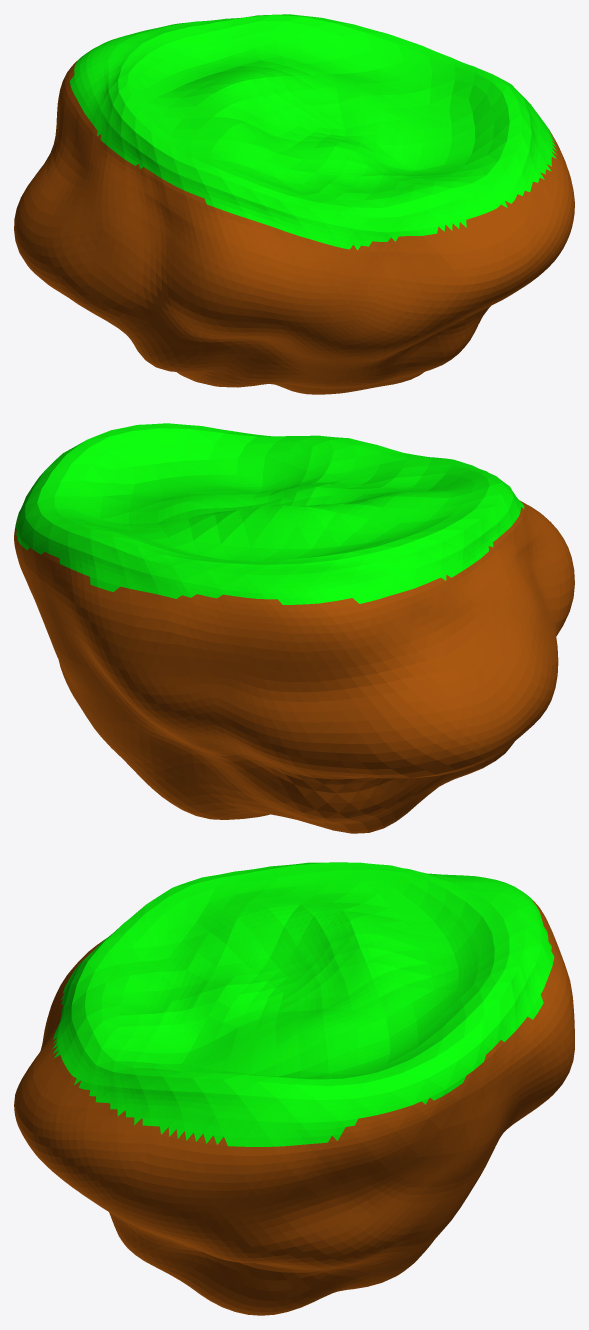
File: Island_7.fbx
The picture shows the model from 3 angles, top to bottom: view 1: azimuth 30°, elevation 25°; view 2: azimuth 150°, elevation 25°; view 3: azimuth 270°, elevation 25°; orthographic projection. The views are drawn at different scales.
Parts seen in each view (by area): view 1: Island_7; view 2: Island_7; view 3: Island_7.
Boxes of the visible parts, <box> form: Island_7: <box>14,14,574,394</box>; Island_7: <box>14,423,574,833</box>; Island_7: <box>14,862,574,1315</box>.
Size of the model in its own units: 247 by 150 by 231.
